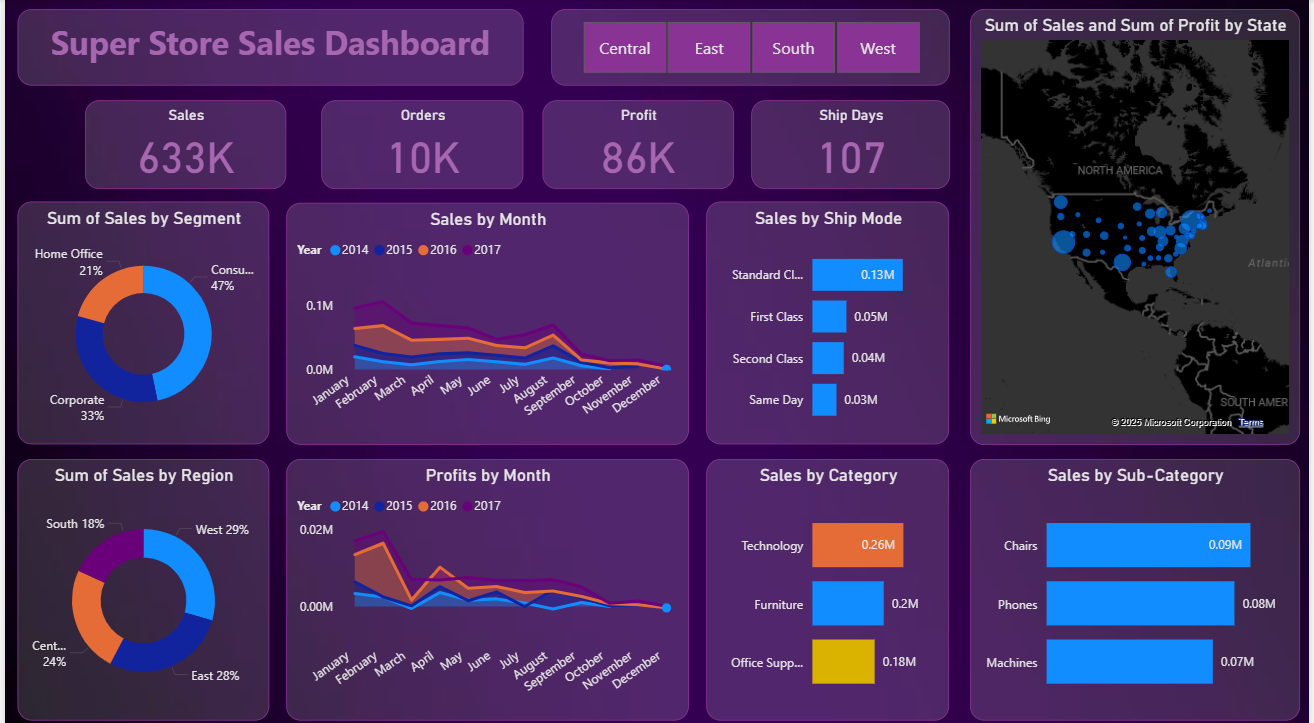

What the dashboard file says about the page in this screenshot:
{"tool":"powerbi","page":{"name":"Dashboard","canvas":[1280,720],"ordinal":0},"visuals":[{"type":"clusteredBarChart","title":"Sales by Category","fields":{"Category":["Sample - Superstore.Category"],"Y":["Sum(Sample - Superstore.Sales)"]},"box":[688.9,451.5,238.8,256.6],"z":0},{"type":"clusteredBarChart","title":"Sales by Sub-Category","fields":{"Category":["Sample - Superstore.Sub-Category"],"Y":["Sum(Sample - Superstore.Sales)"]},"box":[946.8,451.5,323.8,256.6],"z":1000},{"type":"clusteredBarChart","title":"Sales by Ship Mode","fields":{"Category":["Sample - Superstore.Ship Mode"],"Y":["Sum(Sample - Superstore.Sales)"]},"box":[688.9,199,238.8,238.8],"z":2000},{"type":"stackedAreaChart","title":"Profits by Month","fields":{"Category":["Sample - Superstore.Order Date.Variation.Date Hierarchy.Month","Sample - Superstore.Order Date.Variation.Date Hierarchy.Day"],"Series":["Sample - Superstore.Order Date.Variation.Date Hierarchy.Year"],"Y":["Sum(Sample - Superstore.Profit)"]},"box":[275.8,451.5,395.2,256.6],"z":3000},{"type":"stackedAreaChart","title":"Sales by Month","fields":{"Category":["Sample - Superstore.Order Date.Variation.Date Hierarchy.Month","Sample - Superstore.Order Date.Variation.Date Hierarchy.Day"],"Y":["Sum(Sample - Superstore.Sales)"],"Series":["Sample - Superstore.Order Date.Variation.Date Hierarchy.Year"]},"box":[275.8,200.3,395.2,237.4],"z":4000},{"type":"map","fields":{"Category":["Sample - Superstore.State"],"Size":["Sum(Sample - Superstore.Sales)"]},"box":[946.8,9.6,323.8,428.1],"z":5000},{"type":"donutChart","fields":{"Category":["Sample - Superstore.Segment"],"Y":["Sum(Sample - Superstore.Sales)"]},"box":[12.3,199,247,238.8],"z":6000},{"type":"donutChart","fields":{"Category":["Sample - Superstore.Region"],"Y":["Sum(Sample - Superstore.Sales)"]},"box":[12.3,451.5,247,256.6],"z":7000},{"type":"slicer","fields":{"Values":["Sample - Superstore.Region"]},"box":[536.5,9.6,391.1,75.5],"z":8000},{"type":"textbox","box":[12.3,9.6,496.7,75.5],"z":9000},{"type":"card","title":"Sales","fields":{"Values":["Sum(Sample - Superstore.Sales)"]},"box":[78.5,99.4,197.5,87.1],"z":10000},{"type":"card","title":"Orders","fields":{"Values":["Sum(Sample - Superstore.Quantity)"]},"box":[310.4,99.4,198.8,87.1],"z":11000},{"type":"card","title":"Profit","fields":{"Values":["Sum(Sample - Superstore.Profit)"]},"box":[527.6,99.4,187.7,87.1],"z":12000},{"type":"card","title":"Ship Days","fields":{"Values":["Avg(Sample - Superstore.AvgDelivery)"]},"box":[732.5,99.4,195.1,87.1],"z":13000}]}

Visuals, with their boxes in screenshot pixels (x1, y1, x2, y2), scaled from the page's 1280x720 canvas onto the 1314x723 screenshot:
"Sales by Category" clusteredBarChart: 707 453 952 711
"Sales by Sub-Category" clusteredBarChart: 972 453 1304 711
"Sales by Ship Mode" clusteredBarChart: 707 200 952 440
"Profits by Month" stackedAreaChart: 283 453 689 711
"Sales by Month" stackedAreaChart: 283 201 689 440
map - Sample - Superstore.State x Sum(Sample - Superstore.Sales): 972 10 1304 440
donutChart - Sample - Superstore.Segment x Sum(Sample - Superstore.Sales): 13 200 266 440
donutChart - Sample - Superstore.Region x Sum(Sample - Superstore.Sales): 13 453 266 711
slicer - Sample - Superstore.Region: 551 10 952 85
textbox: 13 10 523 85
"Sales" card: 81 100 283 187
"Orders" card: 319 100 523 187
"Profit" card: 542 100 734 187
"Ship Days" card: 752 100 952 187
